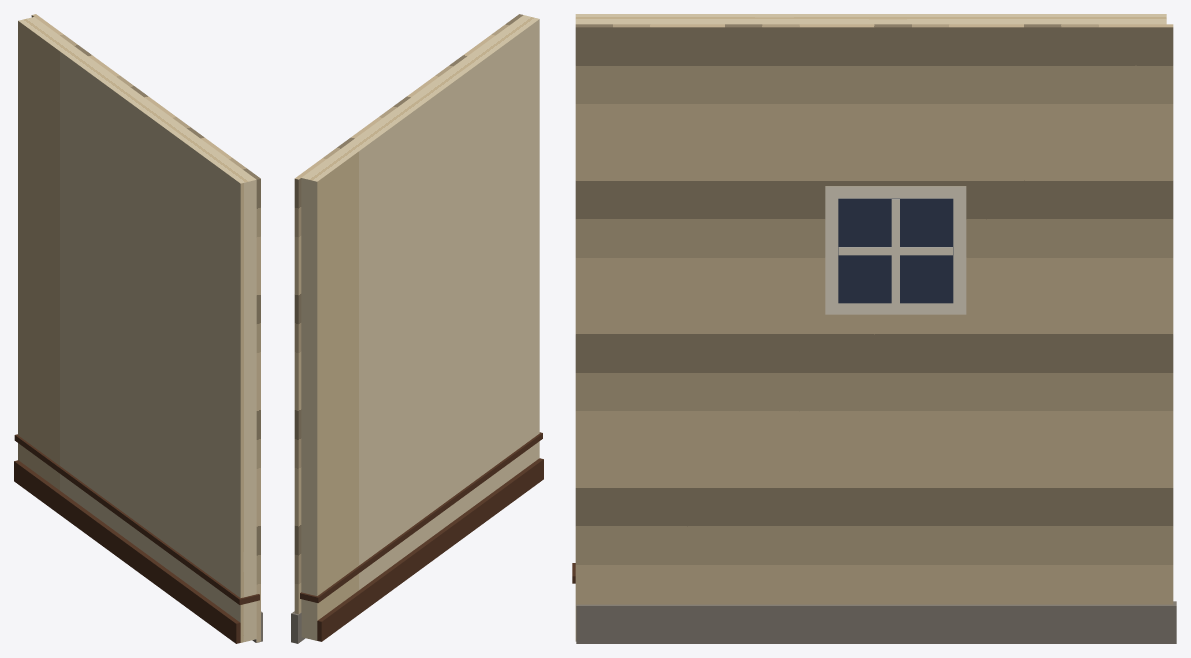
Rendered from stair_east.glb.
3 views of the same model, side by side, from view 1: azimuth 30°, elevation 25°; view 2: azimuth 150°, elevation 25°; view 3: azimuth 270°, elevation 25° (orthographic). The views are drawn at different scales.
Parts seen in each view (by area): view 1: Box1, Box2, Box9, Box3, Box10; view 2: Box1, Box2, Box3, Box9, Box10; view 3: Box3, Box4, Box6, Box1, Box5, Box8, Box7.
Part boxes in pixels (x1,y1,x2,y2): Box1: (18,17,256,642); Box2: (14,460,240,643); Box9: (18,444,256,641); Box3: (31,14,260,642); Box10: (14,434,259,604); Box1: (301,15,539,640); Box2: (317,458,543,641); Box3: (294,14,523,614); Box9: (302,441,539,639); Box10: (300,432,542,602); Box3: (575,24,1173,641); Box4: (576,601,1176,643); Box6: (838,198,953,303); Box1: (575,14,1166,24); Box5: (825,186,966,314); Box8: (838,247,952,255); Box7: (891,199,899,303).
Bounding box in the file's own units: 0.25 × 4.14 × 3.68.
Materials: 6 (2 with a texture image).
